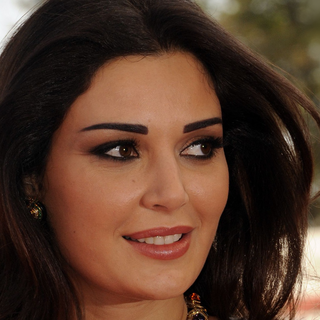eye: (85, 138, 142, 165), (180, 134, 222, 163)
